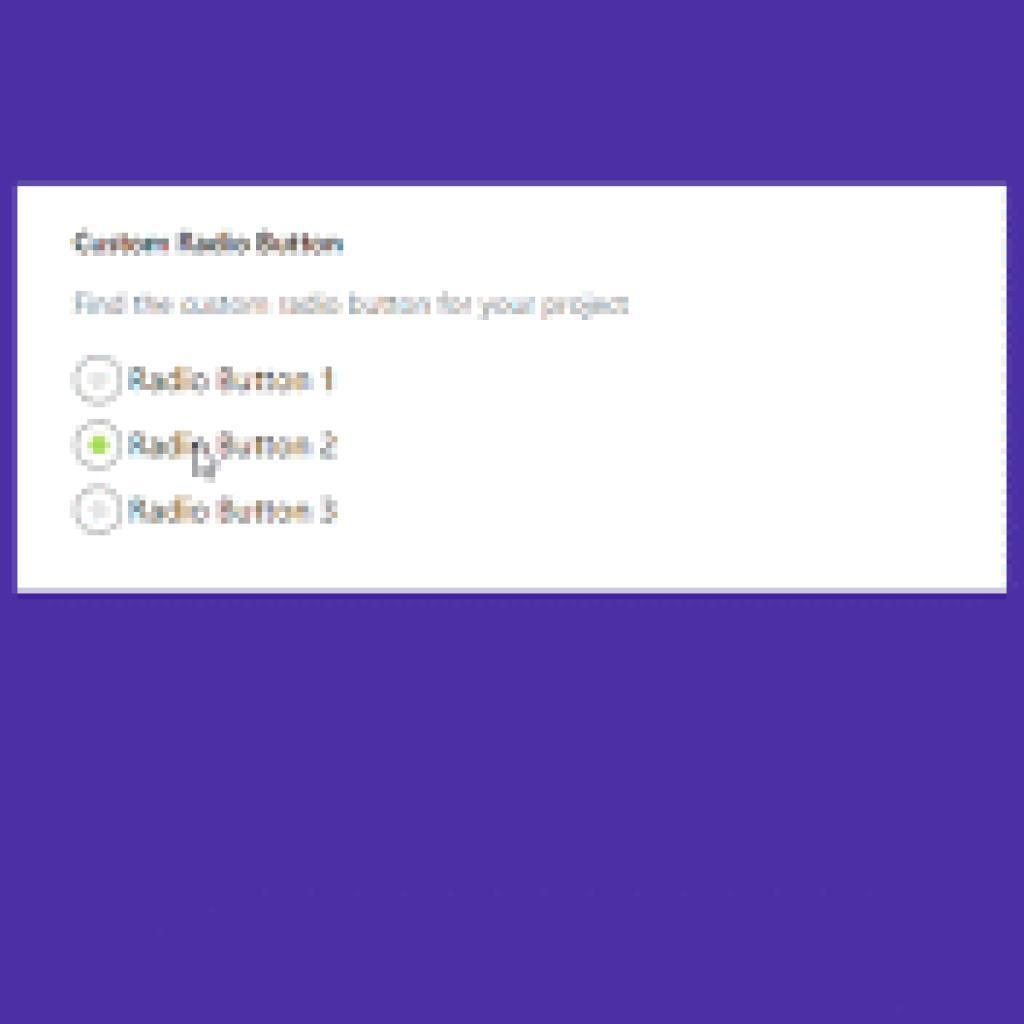label: (125, 425, 338, 481), (124, 492, 343, 535), (128, 364, 341, 399)
radio: (70, 416, 128, 473), (70, 484, 128, 538), (73, 356, 126, 410)
